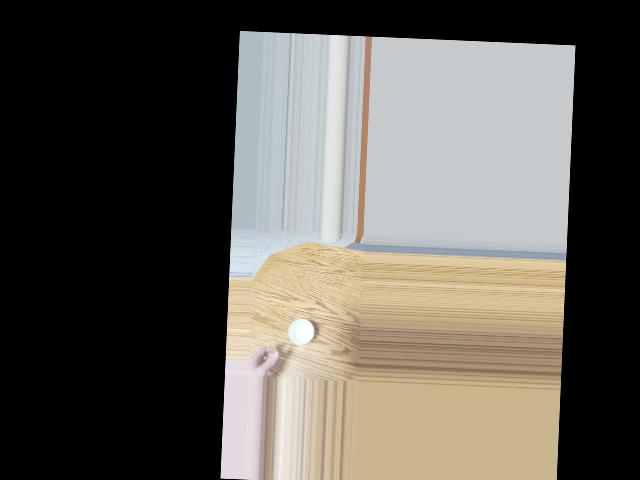cotage: (284, 315, 314, 349)
